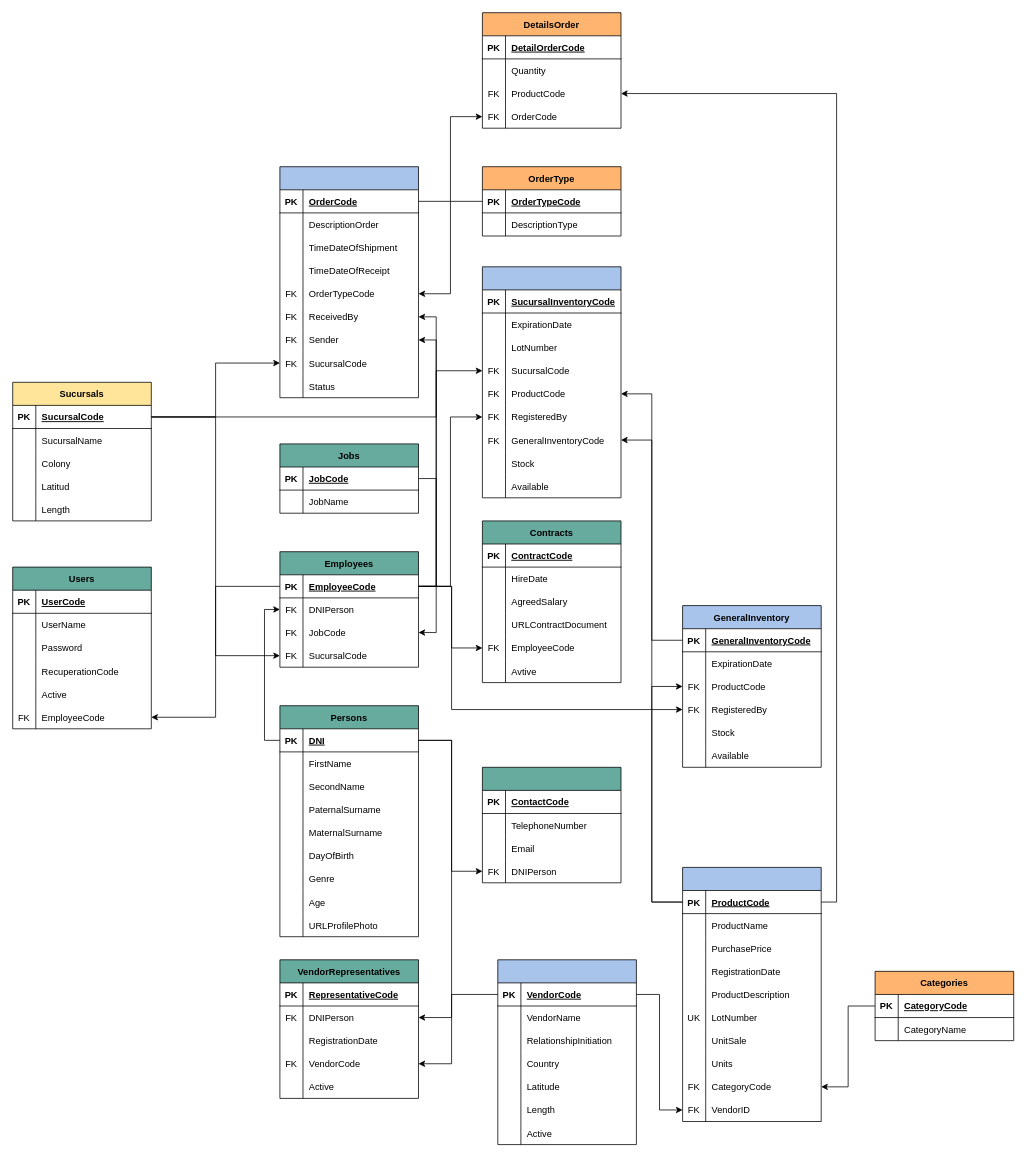
This 1026x1157 diagram has some shape labels left out. The shapes that lost their labels are listed below. From the top down, each one's box as (x1, y1, x2, y2) in pixels, then its label:
(279, 166, 418, 398): Orders
(482, 266, 621, 498): SucursalsInventory
(482, 767, 621, 883): ContactInformation
(682, 867, 821, 1122): Products
(497, 959, 636, 1145): Vendors
